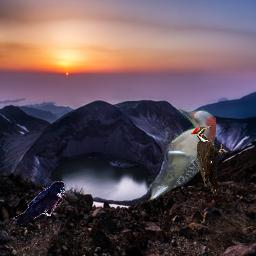Crow: (14, 181, 65, 225)
Woodpecker: (148, 108, 216, 202), (190, 125, 228, 196)
